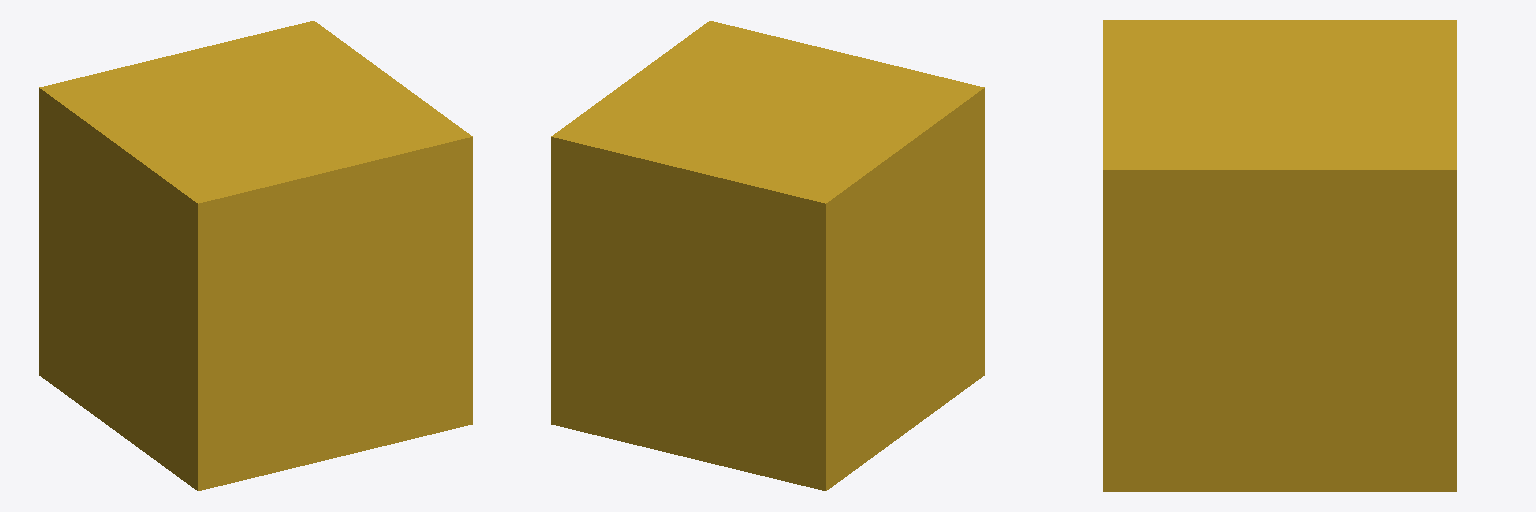
URDF robot description (cube):
<robot name="cube">
  <link name="cube">
    <inertial>
      <mass value="1"/>
      <inertia ixx="0.0066667" ixy="0.0025" ixz="0.0025" iyy="0.0066667" iyz="0.0025" izz="0.0066667" />
    </inertial>
    <collision>
      <origin xyz="0 0 0.025" />
      <geometry>
        <box size="0.05 0.05 0.05" />
      </geometry>
    </collision>
    <visual>
      <origin xyz="0 0 0.025" />
      <material name="c">
        <color rgba="0.83 0.68 0.21 1.0" />
      </material>
      <geometry>
        <box size="0.05 0.05 0.05" />
      </geometry>
    </visual>
  </link>
</robot>

--- Render facts (derived) ---
The picture shows the robot from 3 angles, left to right: view 1: azimuth 30°, elevation 25°; view 2: azimuth 150°, elevation 25°; view 3: azimuth 270°, elevation 25°; orthographic projection.
Robot: cube — 1 links, 0 joints (none); root link cube; default pose: all joints at 0.
Visible links, largest first — view 1: cube; view 2: cube; view 3: cube.
Boxes of the visible links, x1,y1,x2,y2 form: cube: (39, 21, 472, 490); cube: (551, 21, 984, 490); cube: (1103, 20, 1456, 491).
Size in the robot's own frame: 0.05 by 0.05 by 0.05 metres.
Geometry: primitives only (box / cylinder / sphere), no mesh files.